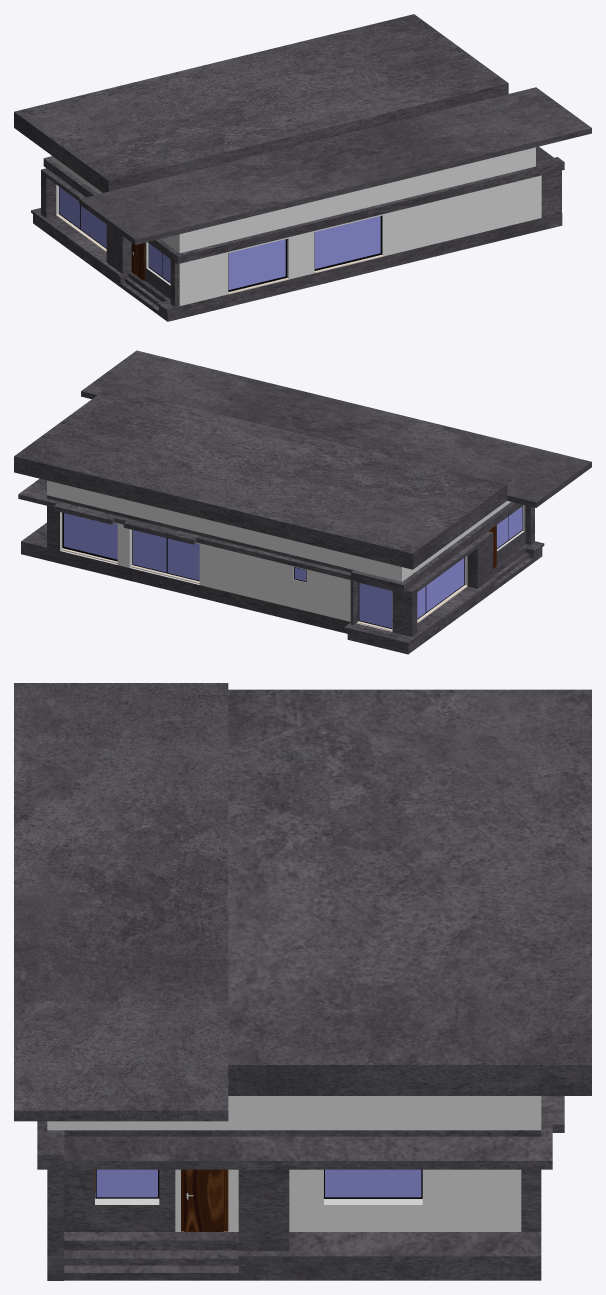
Rendered from house.fbx.
The picture shows the model from 3 angles, top to bottom: view 1: azimuth 30°, elevation 25°; view 2: azimuth 150°, elevation 25°; view 3: azimuth 270°, elevation 25°; orthographic projection. The views are drawn at different scales.
Parts seen in each view (by area): view 1: Cube, Window.007, Window.006, Window, Window.004; view 2: Cube, Window.003, Window.005, Window, Window.001, Window.004; view 3: Cube, Window.008, Panel.001, Window.009.
Boxes of the visible parts, x1=… form: Cube: x1=14, y1=14, x2=591, y2=321; Window.007: x1=314, y1=215, x2=383, y2=273; Window.006: x1=228, y1=239, x2=288, y2=294; Window: x1=56, y1=187, x2=106, y2=252; Window.004: x1=148, y1=243, x2=170, y2=283; Cube: x1=14, y1=350, x2=591, y2=654; Window.003: x1=130, y1=530, x2=199, y2=583; Window.005: x1=61, y1=512, x2=117, y2=563; Window: x1=417, y1=557, x2=467, y2=623; Window.001: x1=357, y1=583, x2=392, y2=631; Window.004: x1=497, y1=506, x2=522, y2=548; Cube: x1=14, y1=683, x2=591, y2=1280; Window.008: x1=324, y1=1169, x2=422, y2=1198; Panel.001: x1=184, y1=1169, x2=223, y2=1231; Window.009: x1=95, y1=1169, x2=159, y2=1198.
Size of the model in its own units: 2051 by 470 by 1170.
